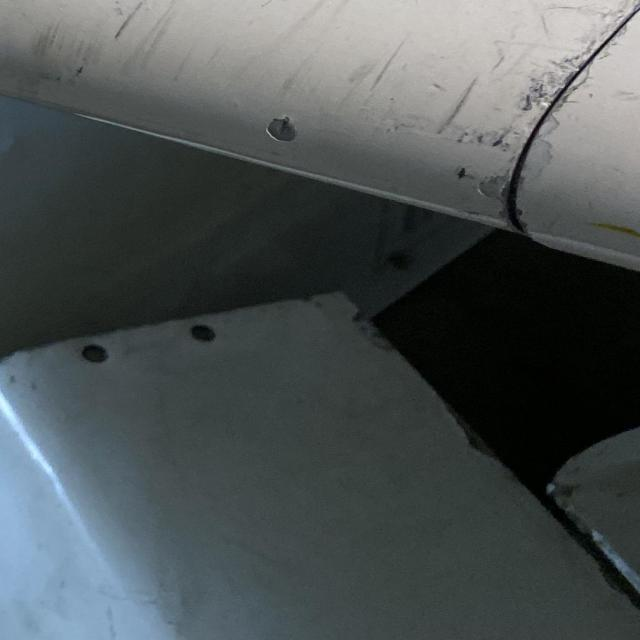Paint-off: (267, 117, 300, 145)
